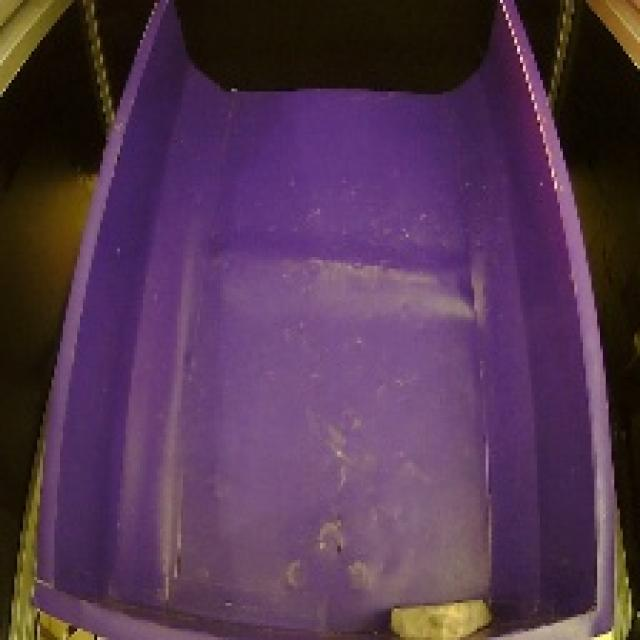china: (371, 577, 503, 640)
